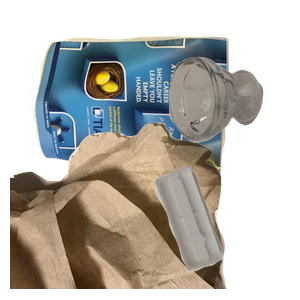glass: (166, 54, 300, 189)
paper: (31, 34, 252, 205)
plastic: (150, 163, 300, 300)
trash: (10, 120, 229, 300)
